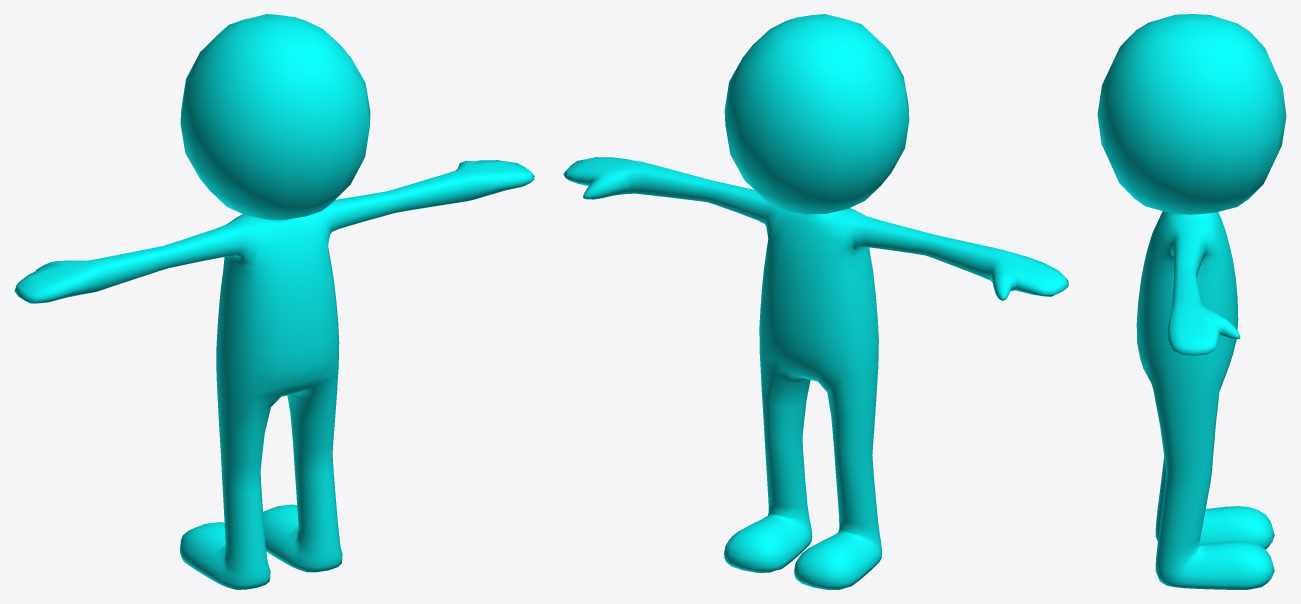
The model's file is stickman (2).fbx.
The picture shows the model from 3 angles, left to right: view 1: azimuth 30°, elevation 25°; view 2: azimuth 150°, elevation 25°; view 3: azimuth 270°, elevation 25°; orthographic projection. The views are drawn at different scales.
Visible parts, largest first — view 1: stickman__2_; view 2: stickman__2_; view 3: stickman__2_.
Boxes of the visible parts, box(x1,y1,x2,y2) form: stickman__2_: box(14, 14, 534, 589); stickman__2_: box(563, 14, 1068, 589); stickman__2_: box(1097, 14, 1286, 589).
Size of the model in its own units: 180 by 183 by 58.17.
